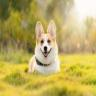dog: (27, 20, 60, 76)
